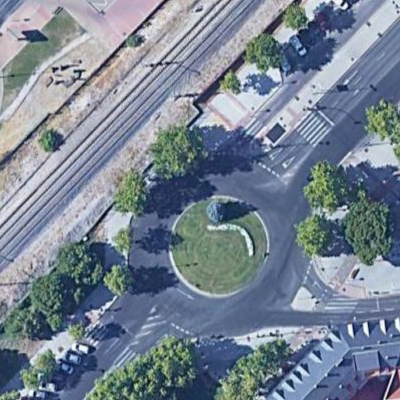tree: (214, 335, 289, 400), (346, 191, 394, 269), (89, 362, 165, 400), (149, 333, 202, 387), (154, 127, 202, 185), (302, 160, 353, 213), (57, 242, 103, 289), (293, 211, 335, 257), (114, 169, 155, 215), (247, 37, 293, 78), (30, 276, 74, 318), (364, 97, 400, 140), (102, 264, 139, 300), (282, 2, 311, 36), (32, 349, 61, 380), (219, 69, 247, 97), (38, 126, 63, 155)
